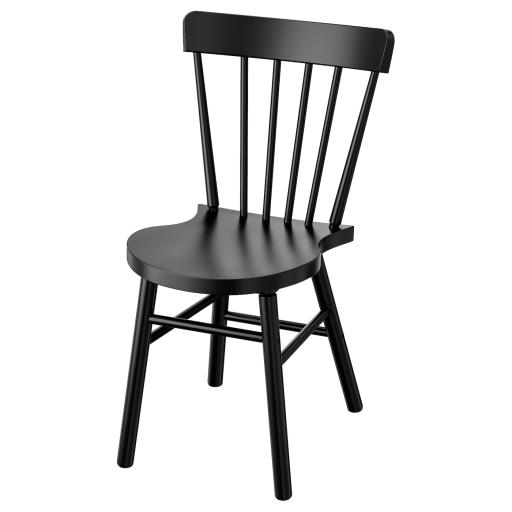chair: (117, 10, 394, 501)
